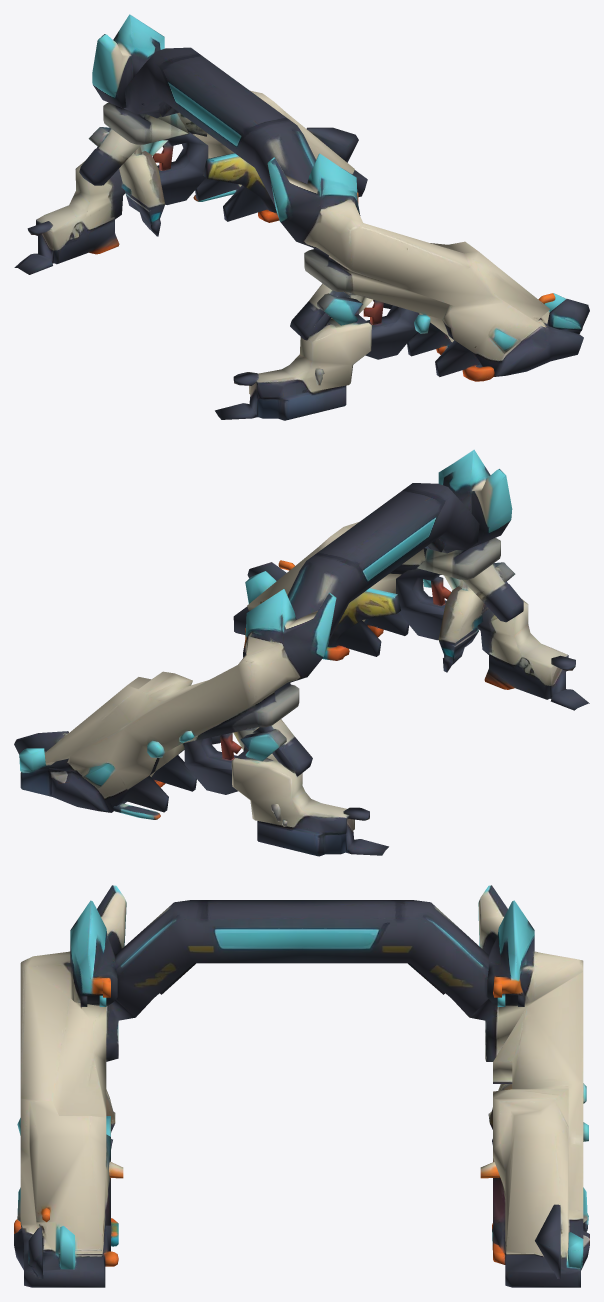
File: arch.glb
3 renders of one model, top to bottom at view 1: azimuth 30°, elevation 25°; view 2: azimuth 150°, elevation 25°; view 3: azimuth 270°, elevation 25°, orthographic. The views are drawn at different scales.
Visible parts, largest first — view 1: arch; view 2: arch; view 3: arch.
Part boxes in pixels (x1,y1,x2,y2): arch: (14,14,589,420); arch: (14,449,589,856); arch: (14,885,589,1287).
Bounding box in the file's own units: 0.7965 × 0.5029 × 1.
1 material, 1 textured.
